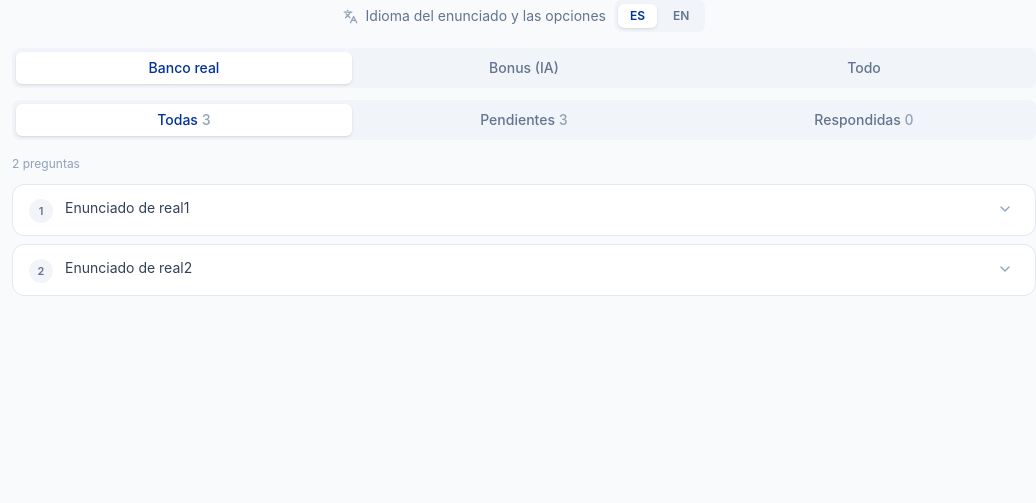
Scenario: corrección › responder revela la explicación ahí mismo
What coordinates should you click on to do the following:
click the button named "Abrir la pregunta" in the row of "Enunciado de real1"
I would click on:
 (1005, 209)
Its box is [991, 195, 1019, 223].
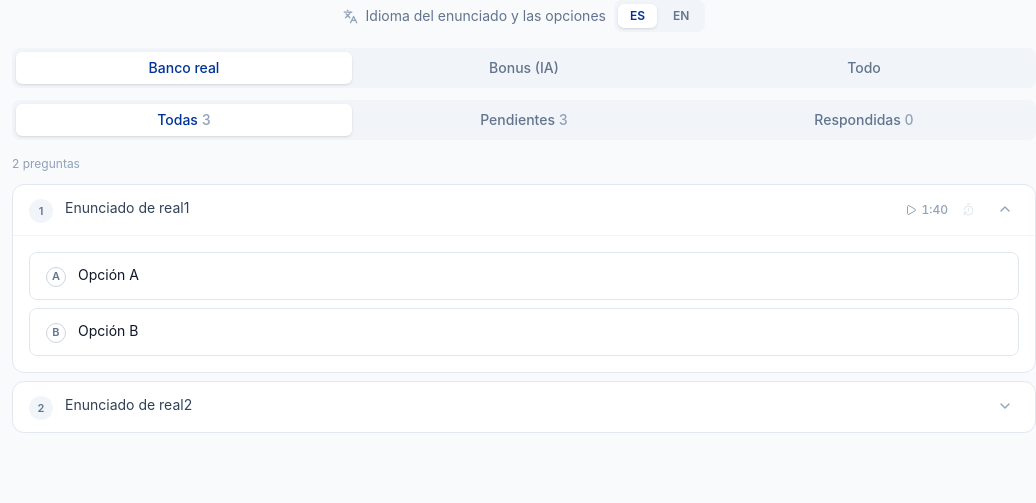
What coordinates should you click on to do the following:
click the button "A Opción A"
I would click on:
 (108, 274)
Its box is [29, 252, 1019, 300].
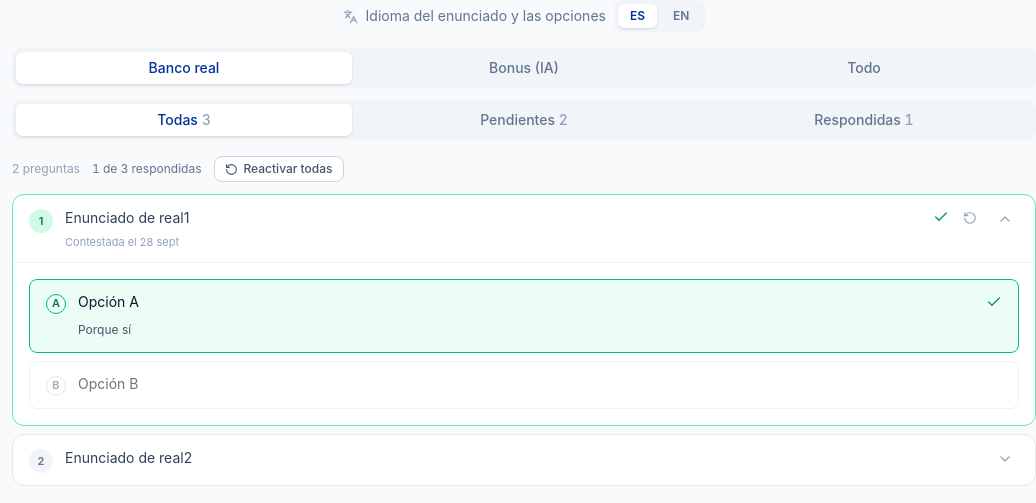
Expected: the text "Porque sí" is shown, [78, 322, 131, 337]
